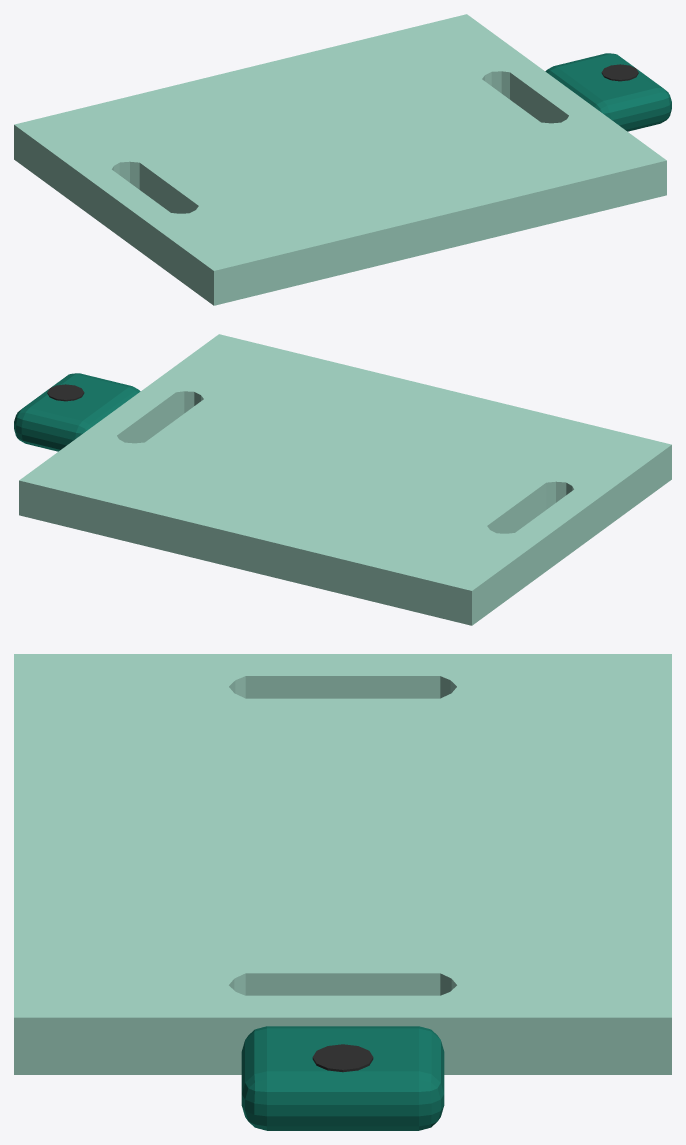
File: board_b.glb
3 renders of one model, top to bottom at view 1: azimuth 30°, elevation 25°; view 2: azimuth 150°, elevation 25°; view 3: azimuth 270°, elevation 25°, orthographic. The views are drawn at different scales.
Parts seen in each view (by area): view 1: body; view 2: body; view 3: body.
Part boxes in pixels (x1,y1,x2,y2): body: (14,14,671,305); body: (14,334,671,625); body: (14,654,671,1130).
Size of the model in its own units: 0.4 by 0.0265 by 0.26.
